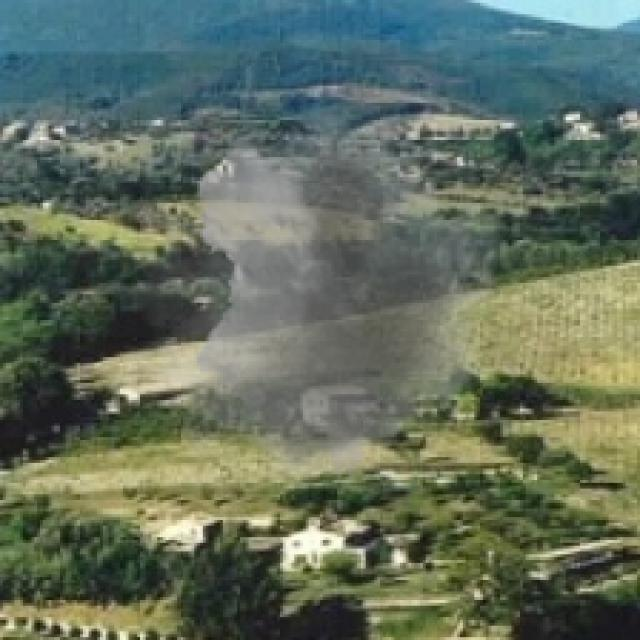Smoke: (114, 112, 520, 497)
